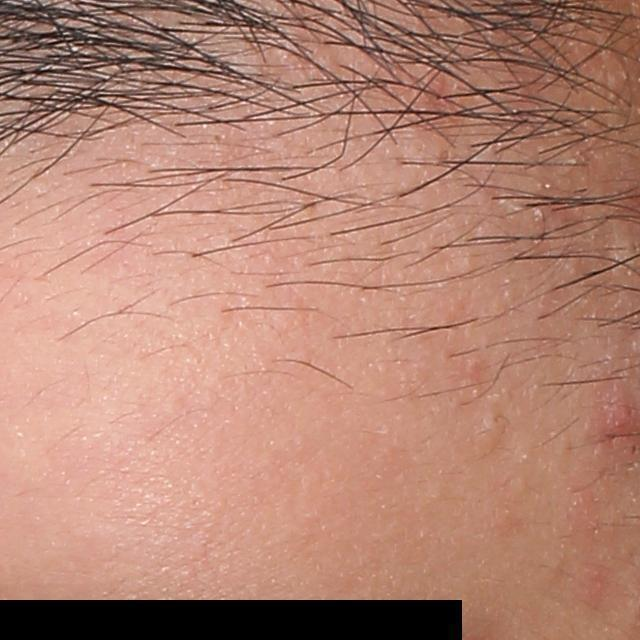papule: (600, 399, 638, 435)
